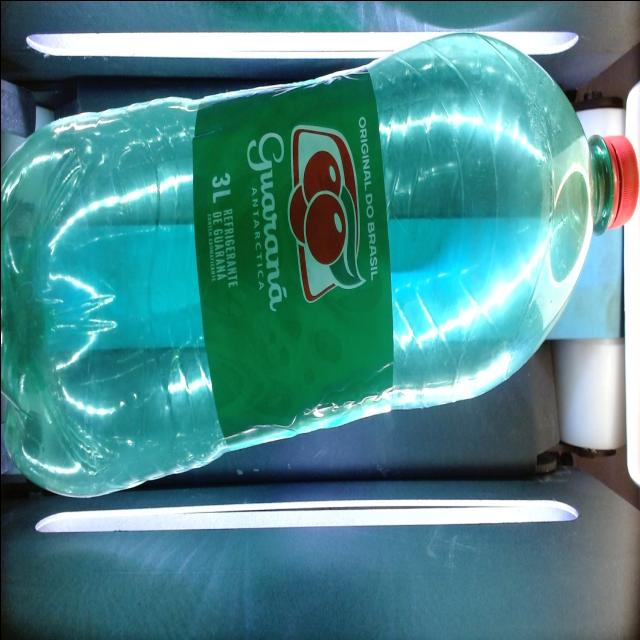bottom: (0, 105, 109, 511)
cap: (582, 128, 636, 238)
